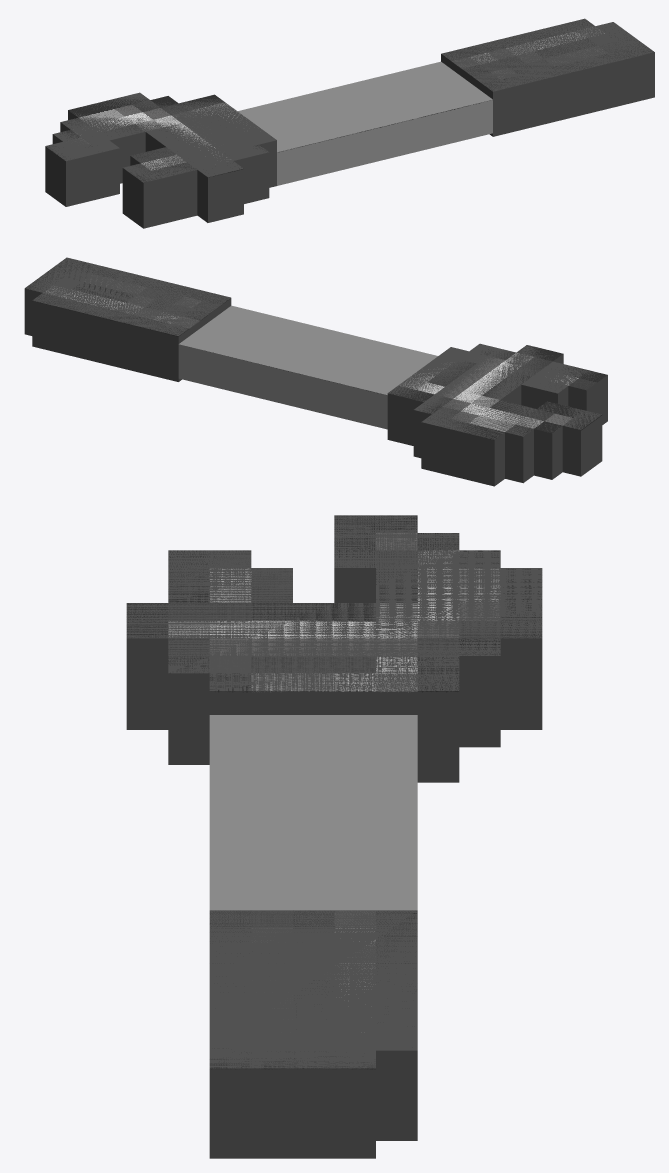
Rendered from CMU3DLooseWrench.glb.
The picture shows the model from 3 angles, top to bottom: view 1: azimuth 30°, elevation 25°; view 2: azimuth 150°, elevation 25°; view 3: azimuth 270°, elevation 25°; orthographic projection. The views are drawn at different scales.
Parts seen in each view (by area): view 1: continuous steel shank solid 1, thicker butt grip solid 1, open jaw and wrench head solid 7, open jaw and wrench head original surface, open jaw and wrench head solid 1, open jaw and wrench head solid 8, open jaw and wrench head solid 5, thicker butt grip original surface, open jaw and wrench head solid 9, open jaw and wrench head solid 6, open jaw and wrench head solid 3, open jaw and wrench head solid 2 (+3 smaller); view 2: continuous steel shank solid 1, thicker butt grip solid 1, open jaw and wrench head original surface, open jaw and wrench head solid 1, open jaw and wrench head solid 5, thicker butt grip original surface, open jaw and wrench head solid 6, open jaw and wrench head solid 7, open jaw and wrench head solid 2, open jaw and wrench head solid 3, open jaw and wrench head solid 8, open jaw and wrench head solid 4 (+2 smaller); view 3: continuous steel shank solid 1, thicker butt grip solid 1, open jaw and wrench head original surface, thicker butt grip solid 2, open jaw and wrench head solid 5, open jaw and wrench head solid 1, open jaw and wrench head solid 7, open jaw and wrench head solid 3, open jaw and wrench head solid 10, open jaw and wrench head solid 2, open jaw and wrench head solid 8, open jaw and wrench head solid 4 (+3 smaller).
Boxes of the visible parts, x1,y1,x2,y2 form: continuous steel shank solid 1: (238,61,492,185); thicker butt grip solid 1: (441,18,636,136); open jaw and wrench head solid 7: (145,123,243,222); open jaw and wrench head original surface: (46,94,266,182); open jaw and wrench head solid 1: (68,92,180,183); open jaw and wrench head solid 8: (130,147,197,224); open jaw and wrench head solid 5: (179,96,276,187); thicker butt grip original surface: (442,19,653,90); open jaw and wrench head solid 9: (122,163,161,228); open jaw and wrench head solid 6: (45,142,83,206); open jaw and wrench head solid 3: (155,102,251,203); open jaw and wrench head solid 2: (60,118,119,198); continuous steel shank solid 1: (178,305,437,429); thicker butt grip solid 1: (32,262,231,381); open jaw and wrench head original surface: (388,345,607,439); open jaw and wrench head solid 1: (421,393,536,486); open jaw and wrench head solid 5: (387,347,486,445); thicker butt grip original surface: (25,258,230,336); open jaw and wrench head solid 6: (562,410,602,476); open jaw and wrench head solid 7: (467,345,563,404); open jaw and wrench head solid 2: (505,401,565,483); open jaw and wrench head solid 3: (413,348,514,458); open jaw and wrench head solid 8: (521,361,588,408); open jaw and wrench head solid 4: (534,406,583,479); continuous steel shank solid 1: (209,715,417,910); thicker butt grip solid 1: (209,910,417,1140); open jaw and wrench head original surface: (126,515,542,692); thicker butt grip solid 2: (209,1050,375,1158); open jaw and wrench head solid 5: (209,656,459,782); open jaw and wrench head solid 1: (376,568,542,729); open jaw and wrench head solid 7: (126,603,375,729); open jaw and wrench head solid 3: (168,638,500,747); open jaw and wrench head solid 10: (168,656,209,764); open jaw and wrench head solid 2: (334,550,500,602); open jaw and wrench head solid 8: (168,568,292,602); open jaw and wrench head solid 4: (334,533,459,550).
Size of the model in its own units: 0.9688 by 0.082 by 0.3125.
Materials: 5 (3 with a texture image).
